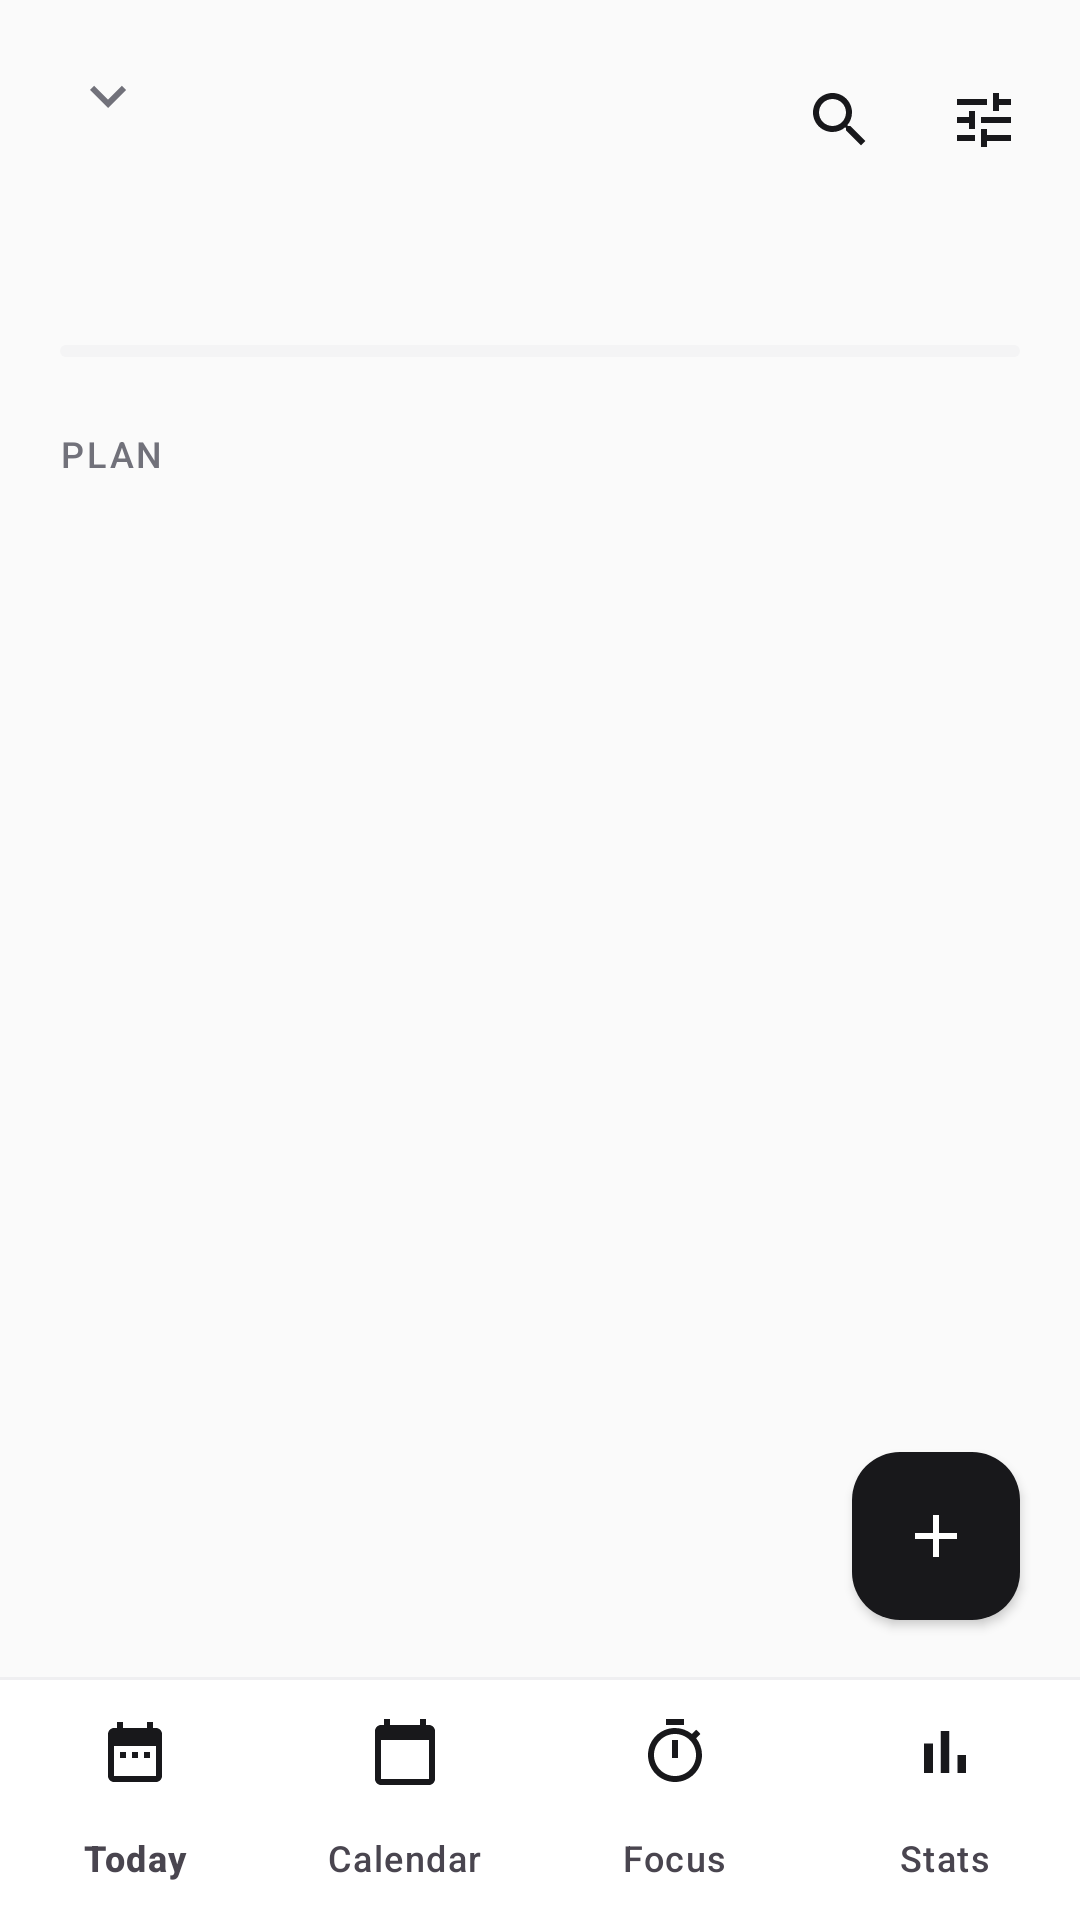

Icon bounding boxes for this 1080w x 1920h phone screenshot, format (x1, y1, x2, y2):
Add task: (852, 1452, 1020, 1620)
Search: (813, 93, 865, 145)
